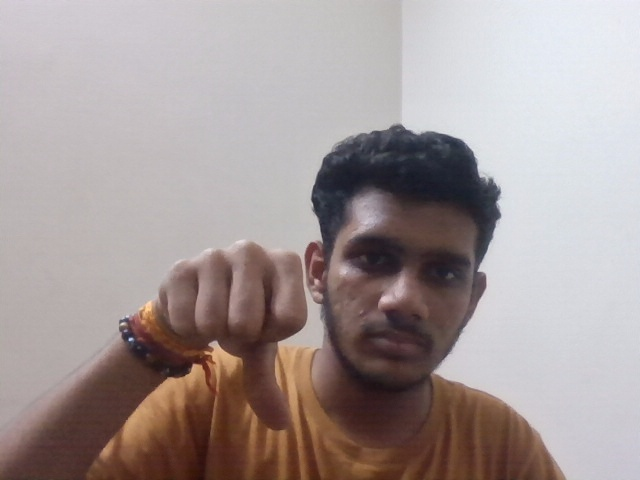yes: (143, 244, 342, 429)
